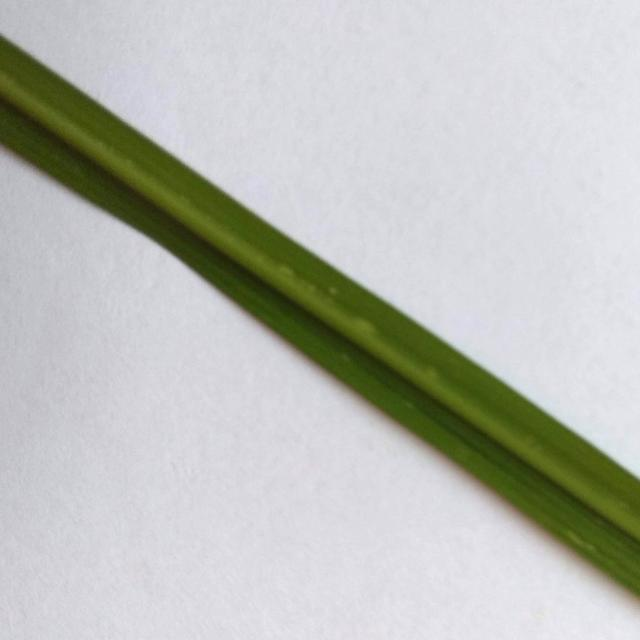Rice_Healthy: (0, 38, 640, 596)
